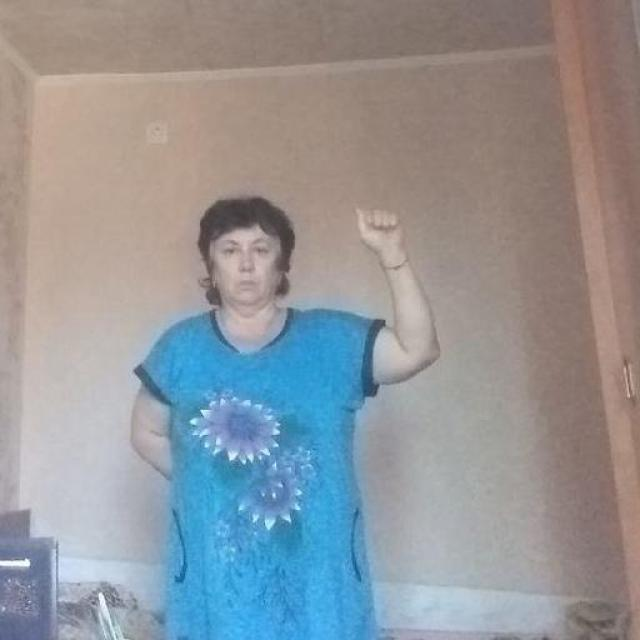hand: (354, 206, 408, 269)
